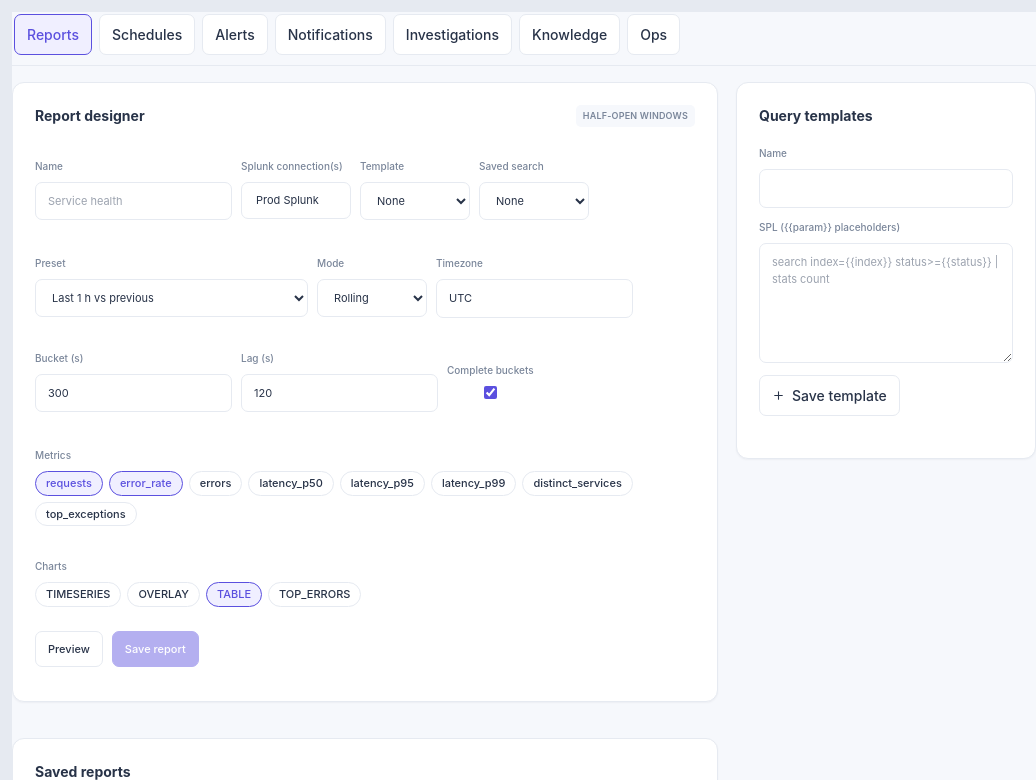
Test: Monitoring › saves a report definition once a connection is chosen
This screenshot has width=1036, height=780.
Later steps or results of the test are not shown.
Step 1. Type "Health" into the field named "Report name" → (134,201), box x1=35 y1=182 x2=232 y2=220
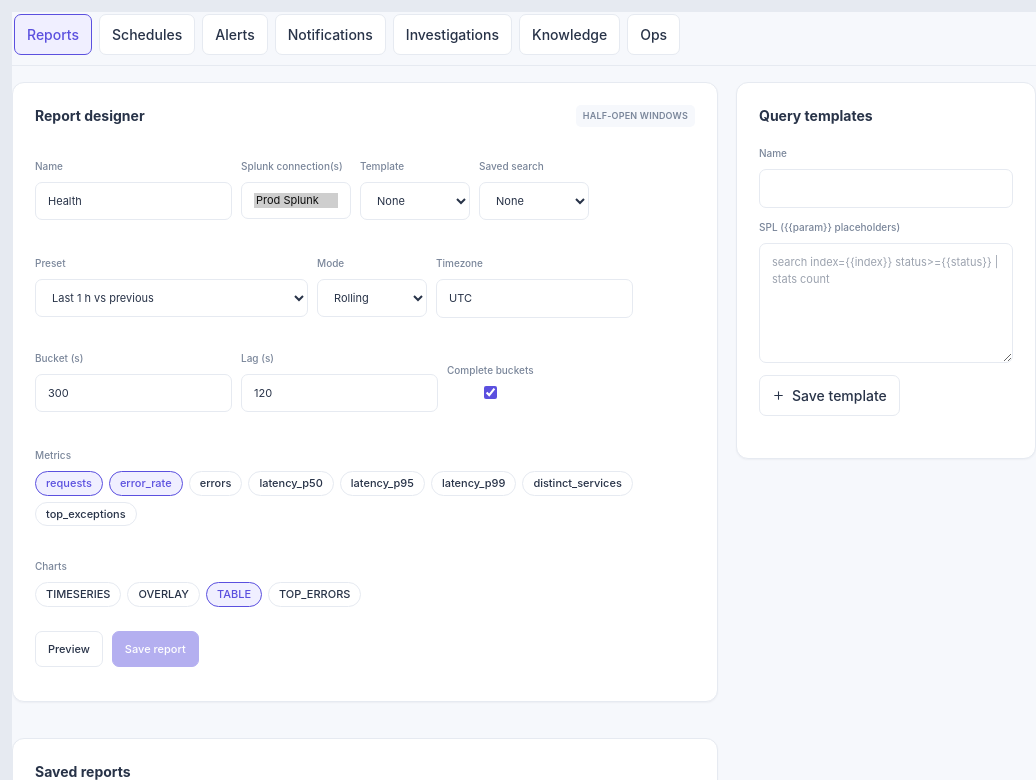
Step 2. Select "Prod Splunk" in the dropdown named "Splunk connections" → (296,201), box x1=241 y1=182 x2=351 y2=219
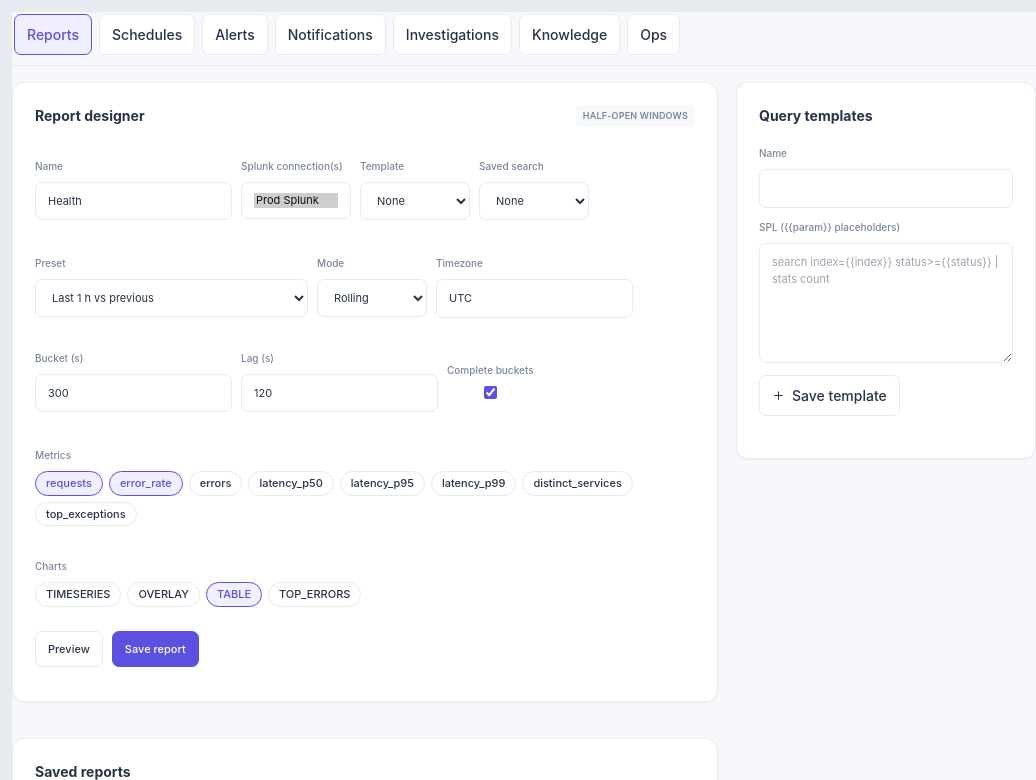
Check: the button "Save report" is enabled, box x1=112 y1=630 x2=199 y2=667
